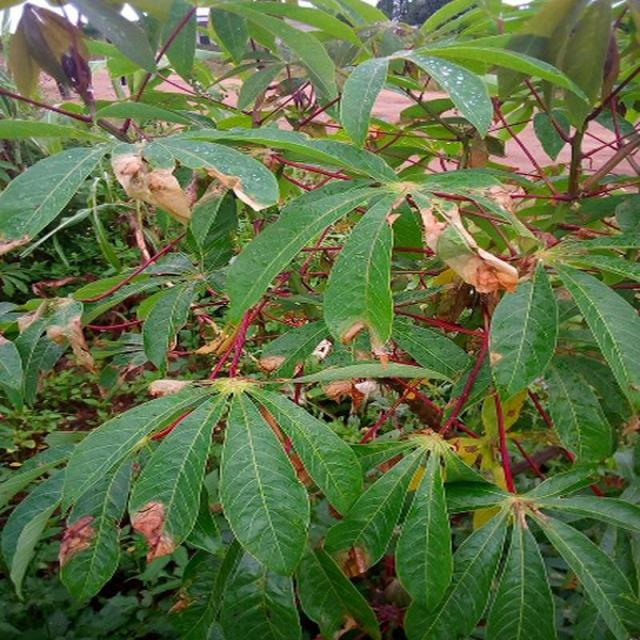cassava leaf: (218, 388, 310, 576), (322, 192, 396, 348), (488, 259, 558, 399)
